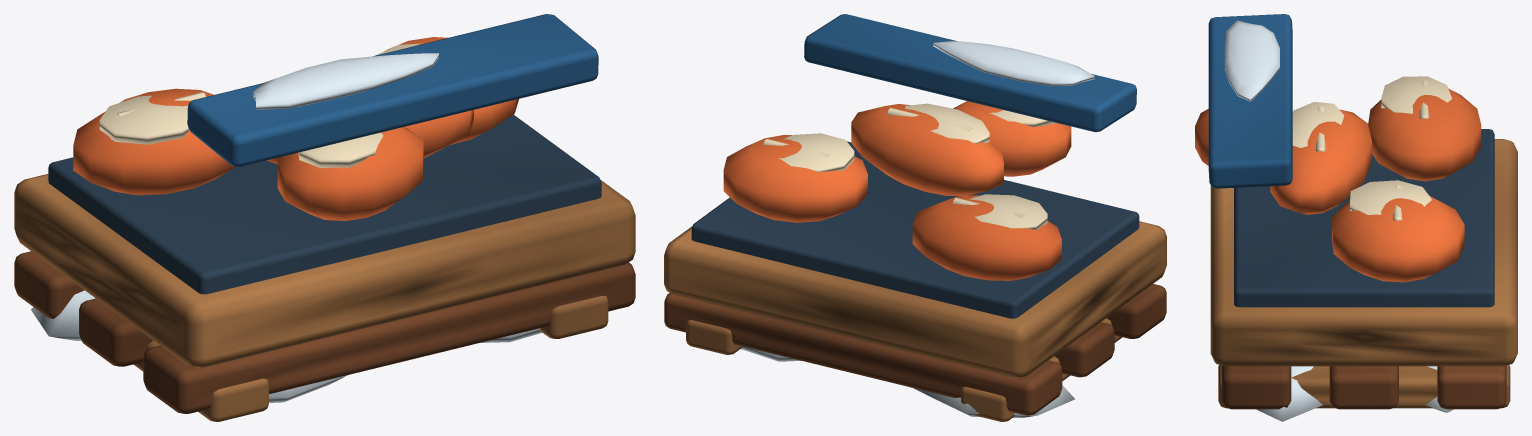
The model's file is cooked_food_stack.glb.
The picture shows the model from 3 angles, left to right: view 1: azimuth 30°, elevation 25°; view 2: azimuth 150°, elevation 25°; view 3: azimuth 270°, elevation 25°; orthographic projection. The views are drawn at different scales.
Visible parts, largest first — view 1: cooked_food_stack; view 2: cooked_food_stack; view 3: cooked_food_stack.
Boxes of the visible parts, <box> form: cooked_food_stack: <box>14,14,635,421</box>; cooked_food_stack: <box>664,14,1166,421</box>; cooked_food_stack: <box>1195,14,1517,421</box>.
Bounding box in the file's own units: 1.38 × 0.886 × 0.9666.
